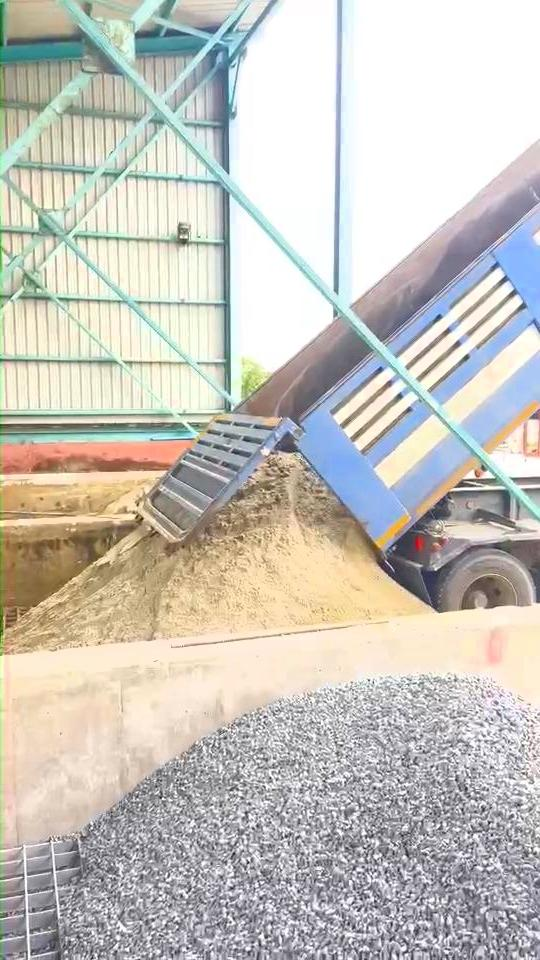gravel: (63, 675, 539, 959)
sand: (4, 454, 429, 652), (105, 480, 153, 514)
